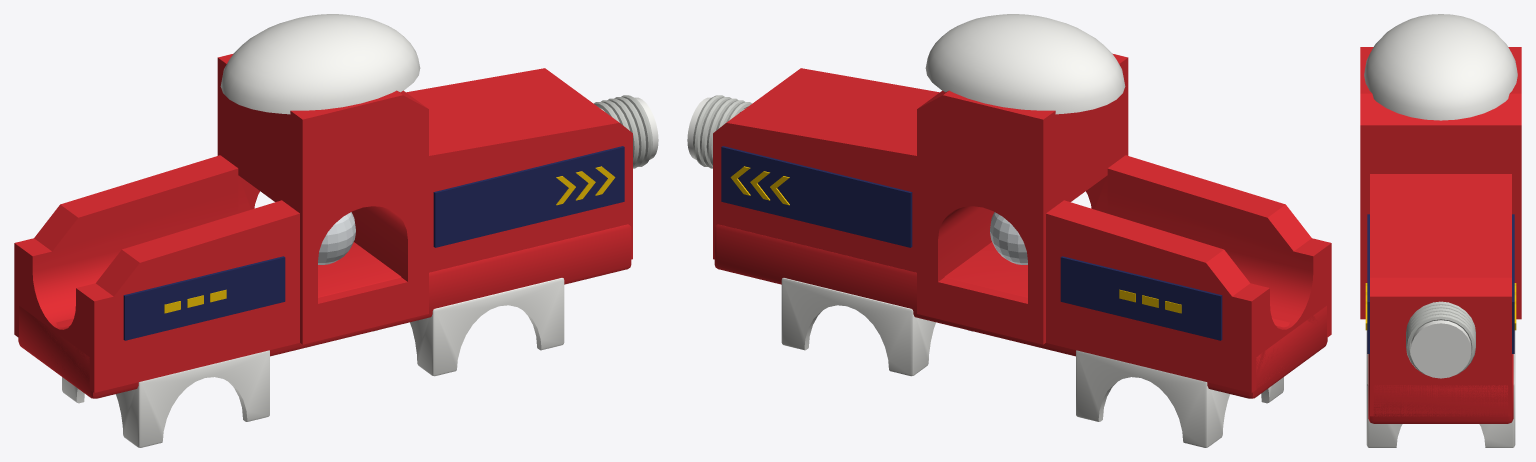
3 views of the same model, side by side, from view 1: azimuth 30°, elevation 25°; view 2: azimuth 150°, elevation 25°; view 3: azimuth 270°, elevation 25° (orthographic). The views are drawn at different scales.
Visible parts, largest first — view 1: M-28, demo_marble; view 2: M-28, demo_marble; view 3: M-28.
Part boxes in pixels (x1=…): M-28: x1=14, y1=14, x2=658, y2=447; demo_marble: x1=318, y1=212, x2=355, y2=264; M-28: x1=687, y1=14, x2=1331, y2=447; demo_marble: x1=990, y1=212, x2=1027, y2=264; M-28: x1=1360, y1=14, x2=1521, y2=447.
Size of the model in its own units: 0.18 by 0.0998 by 0.045.
